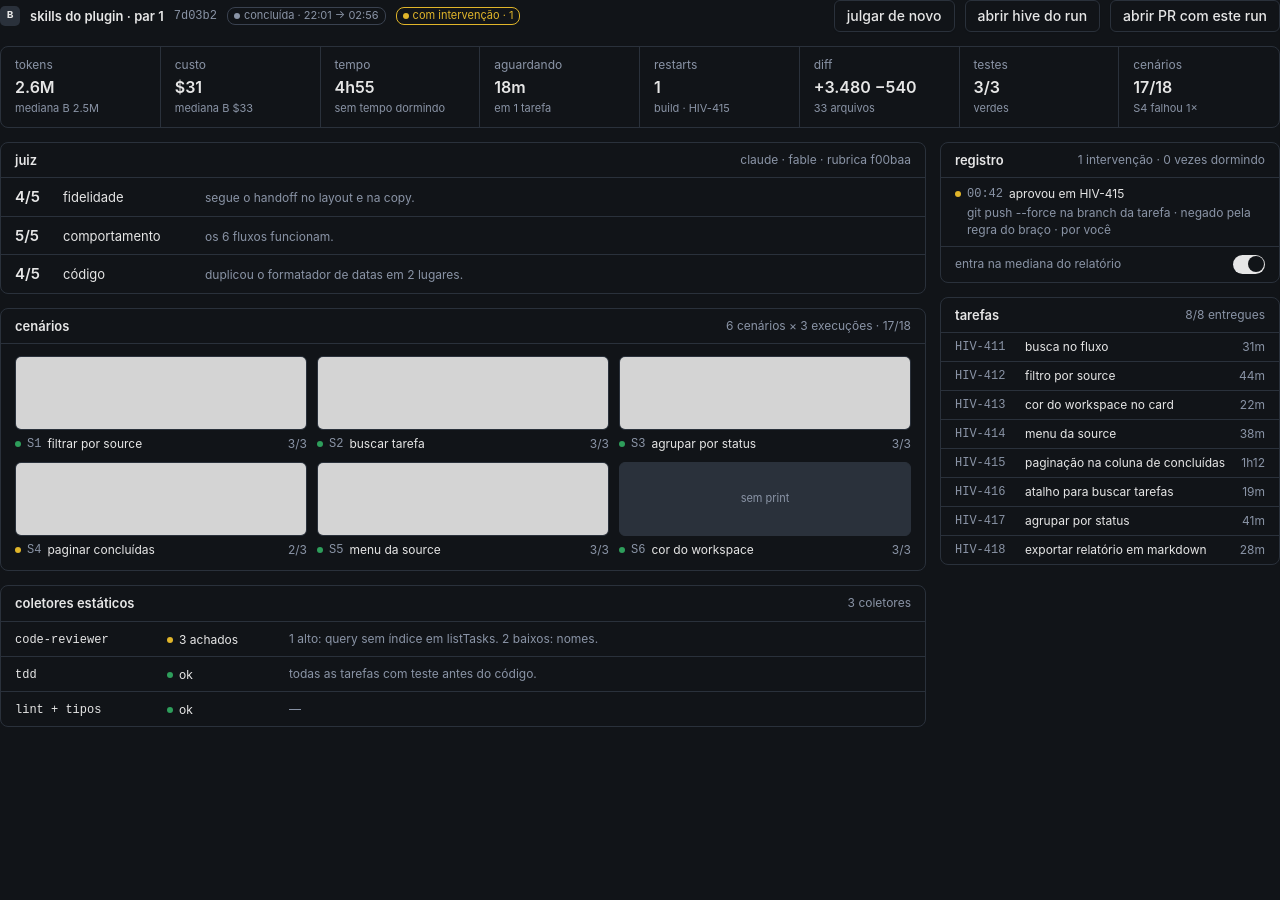
abrir PR com este run opens the PR dialog with this run picked (#466)
Click the button "abrir PR com este run" at (1195, 16), box [1110, 0, 1279, 32]
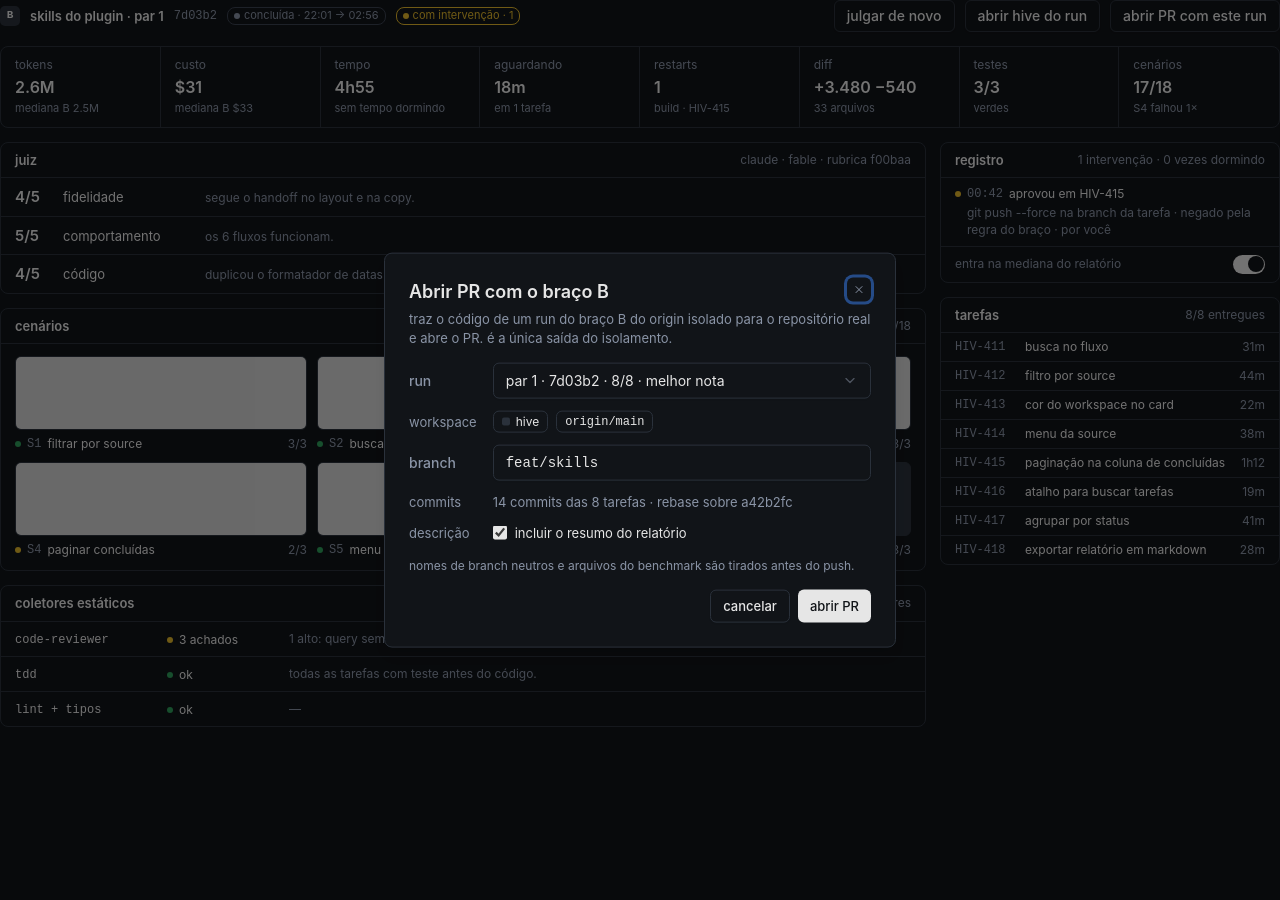
Now the dialog "Abrir PR com o braço B" is shown, box [384, 253, 896, 647]
